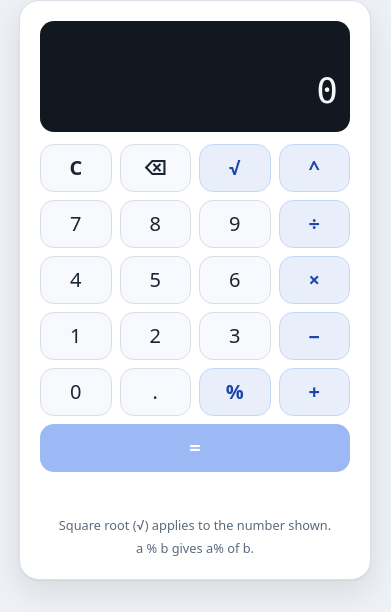
it: Calculator › shows the pending expression while the second operand is typed
Click the button named "One": click(76, 336) x1=40 y1=312 x2=112 y2=360
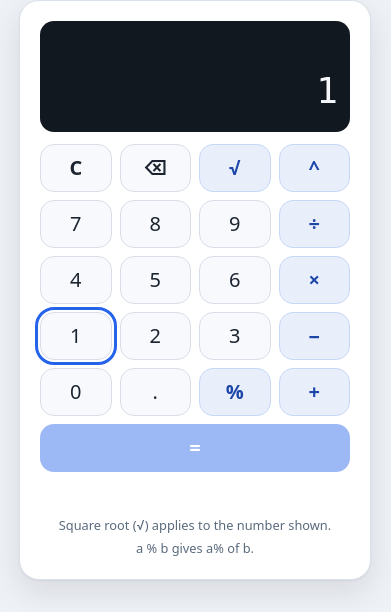
Click the button named "Zero": click(76, 392) x1=40 y1=368 x2=112 y2=416
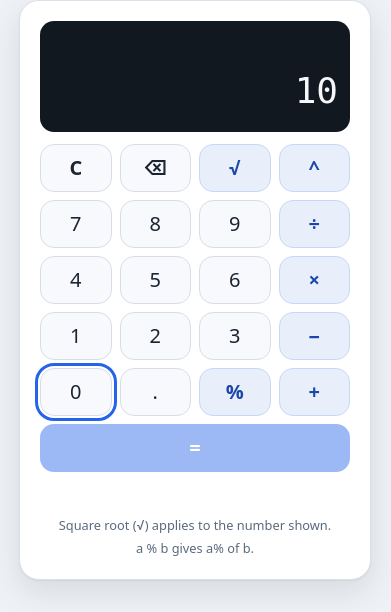
Click the button named "Divide": click(314, 224) x1=278 y1=200 x2=350 y2=248
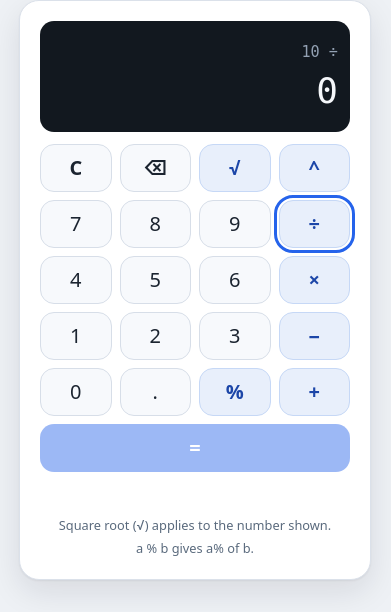
Click the button named "Four": click(76, 280) x1=40 y1=256 x2=112 y2=304
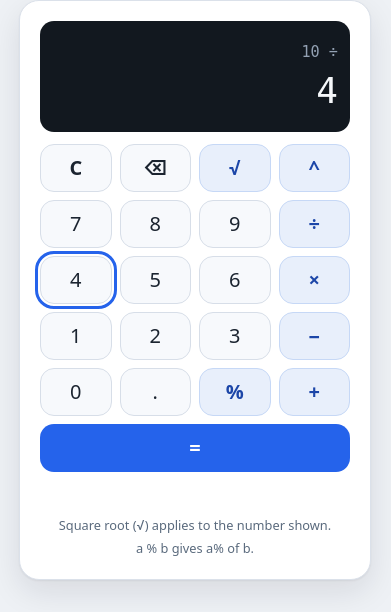
Now the text "10 ÷" is shown, box x1=301 y1=43 x2=338 y2=61
Now the text "4" below "10 ÷" is shown, box x1=316 y1=70 x2=338 y2=111
